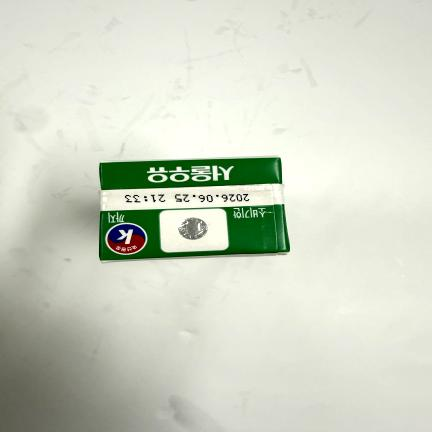milk_green: (101, 158, 289, 264)
